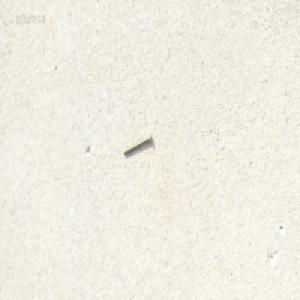Bolt: (122, 133, 151, 155)
